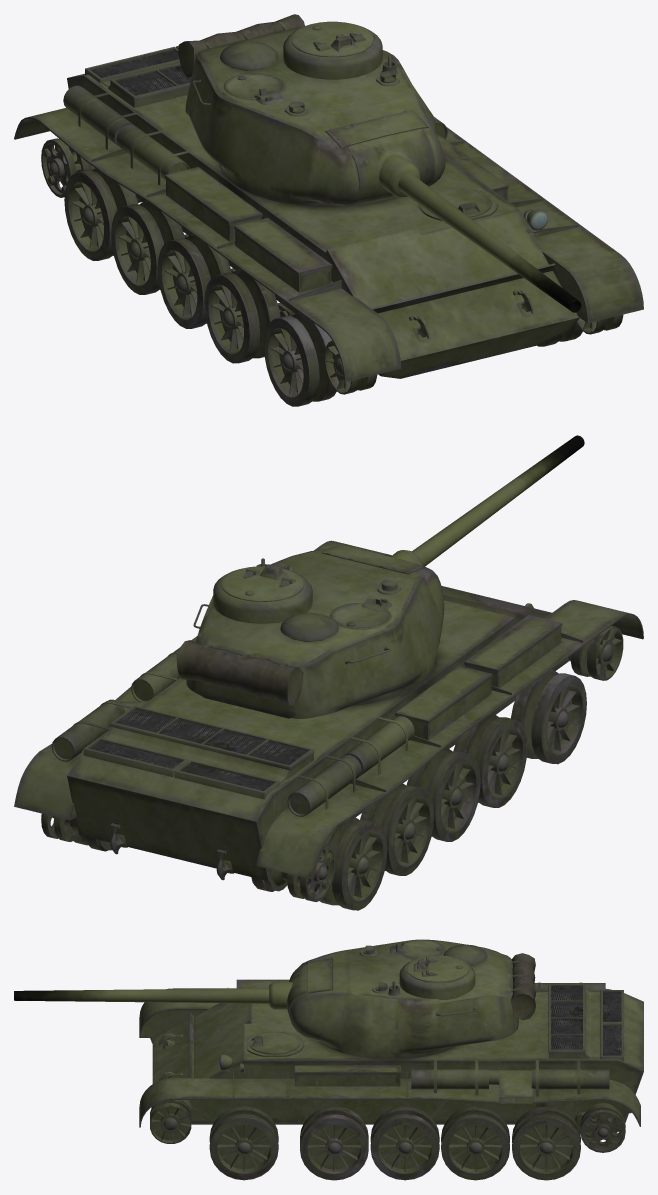
The picture shows the model from 3 angles, top to bottom: view 1: azimuth 30°, elevation 25°; view 2: azimuth 150°, elevation 25°; view 3: azimuth 270°, elevation 25°; orthographic projection. The views are drawn at different scales.
Parts seen in each view (by area): view 1: Wanne, turret, cannon, radL4, radL5, radL3, radL1, radL2, radL0, radL6; view 2: Wanne, turret, radL5, cannon, radL1, radL4, radL3, radL2, radL6, radL0; view 3: Wanne, turret, cannon, radR3, radR5, radR4, radR1, radR2, radR0, radR6.
Part boxes in pixels (x1,y1,x2,y2): Wanne: (14, 45, 643, 406); turret: (178, 14, 445, 206); cannon: (379, 155, 581, 312); radL4: (204, 270, 289, 363); radL5: (264, 313, 329, 406); radL3: (157, 235, 233, 328); radL1: (64, 168, 127, 260); radL2: (111, 201, 186, 294); radL0: (41, 140, 95, 197); radL6: (324, 340, 377, 394); Wanne: (14, 540, 643, 910); turret: (176, 546, 444, 718); radL5: (521, 671, 586, 764); cannon: (391, 435, 584, 566); radL1: (324, 817, 387, 910); radL4: (464, 714, 527, 807); radL3: (417, 748, 480, 841); radL2: (371, 783, 434, 875); radL6: (568, 626, 623, 680); radL0: (263, 844, 335, 902); Wanne: (139, 979, 643, 1173); turret: (287, 939, 536, 1059); cannon: (14, 982, 292, 1009); radR3: (370, 1110, 439, 1180); radR5: (209, 1110, 278, 1180); radR4: (300, 1110, 368, 1180); radR1: (512, 1110, 580, 1180); radR2: (441, 1110, 509, 1180); radR0: (580, 1103, 625, 1152); radR6: (150, 1100, 191, 1143).
Bounding box in the file's own units: 3.15 × 2.4 × 7.59.
Materials: 1 (1 with a texture image).
